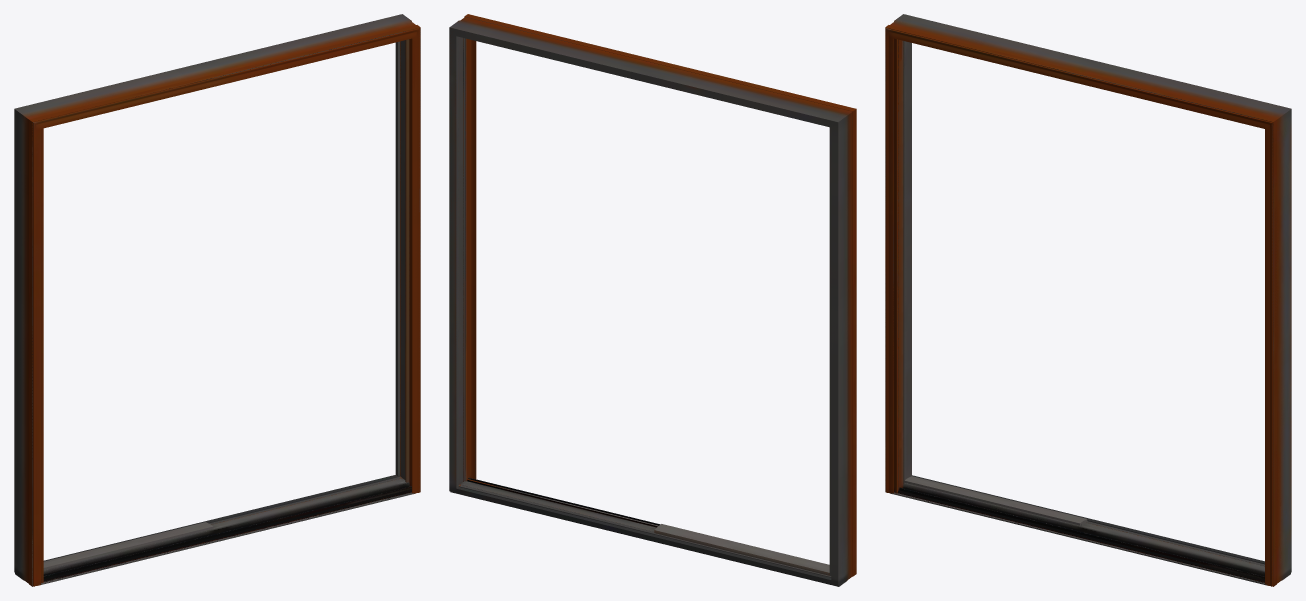
The model's file is link_2__base_body-3.glb.
3 views of the same model, side by side, from view 1: azimuth 30°, elevation 25°; view 2: azimuth 150°, elevation 25°; view 3: azimuth 330°, elevation 25° (orthographic).
Visible parts, largest first — view 1: geometry_0; view 2: geometry_0; view 3: geometry_0.
Part boxes in pixels (x1,y1,x2,y2): geometry_0: (14,14,420,586); geometry_0: (449,14,856,586); geometry_0: (885,14,1291,586).
Bounding box in the file's own units: 1.35 × 1.54 × 0.1107.
1 material, 1 textured.
